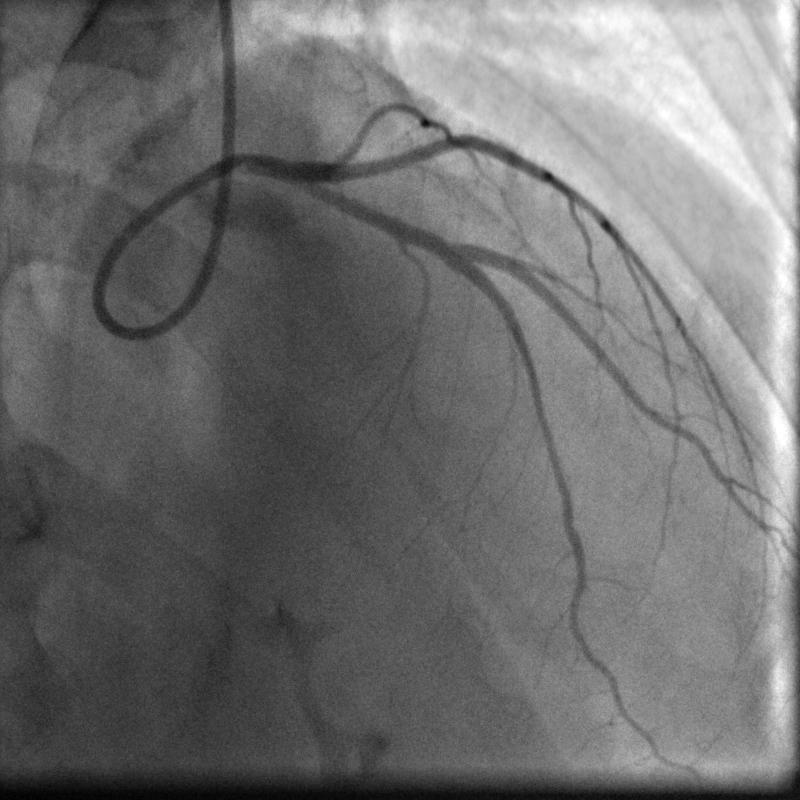Stenosis: (428, 230, 456, 267)
